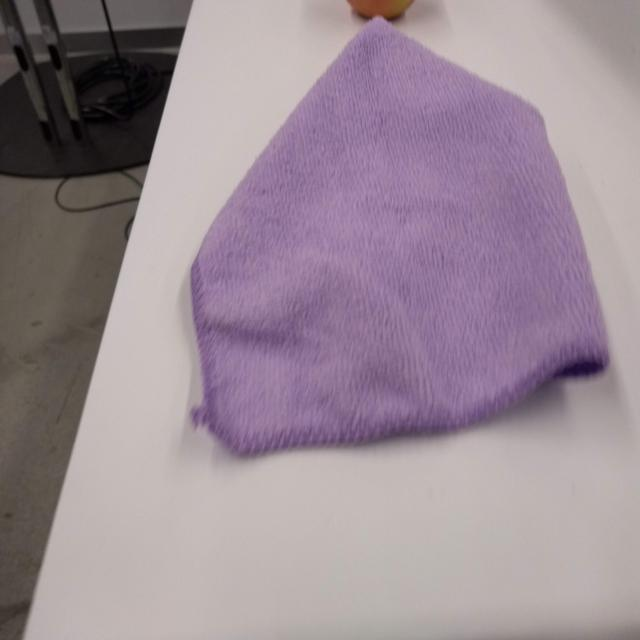cloth_opl: (179, 10, 627, 462)
